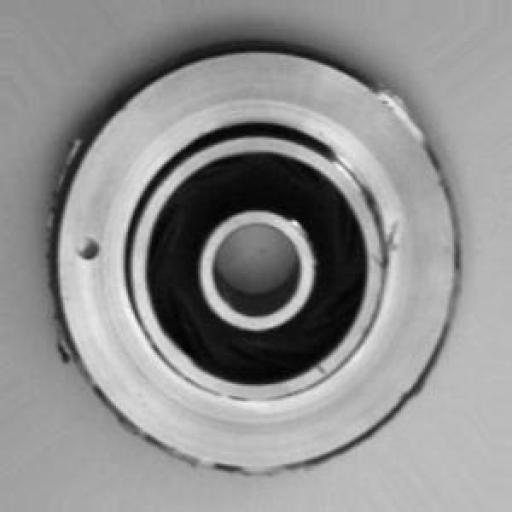defect: (22, 13, 476, 485), (68, 218, 115, 278)
